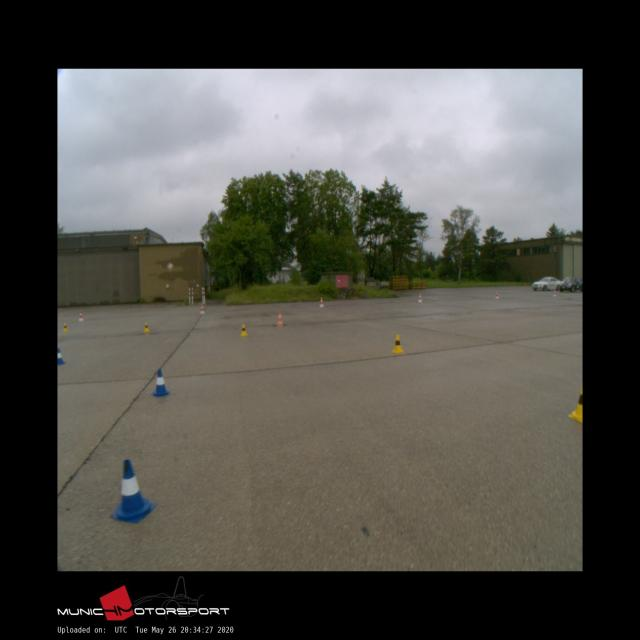blue_cone: (111, 460, 155, 523), (153, 370, 170, 396), (57, 348, 65, 364)
large_orange_cone: (277, 312, 283, 326)
yellow_cone: (392, 336, 404, 352), (240, 324, 247, 336), (144, 322, 150, 332), (63, 323, 68, 331)
